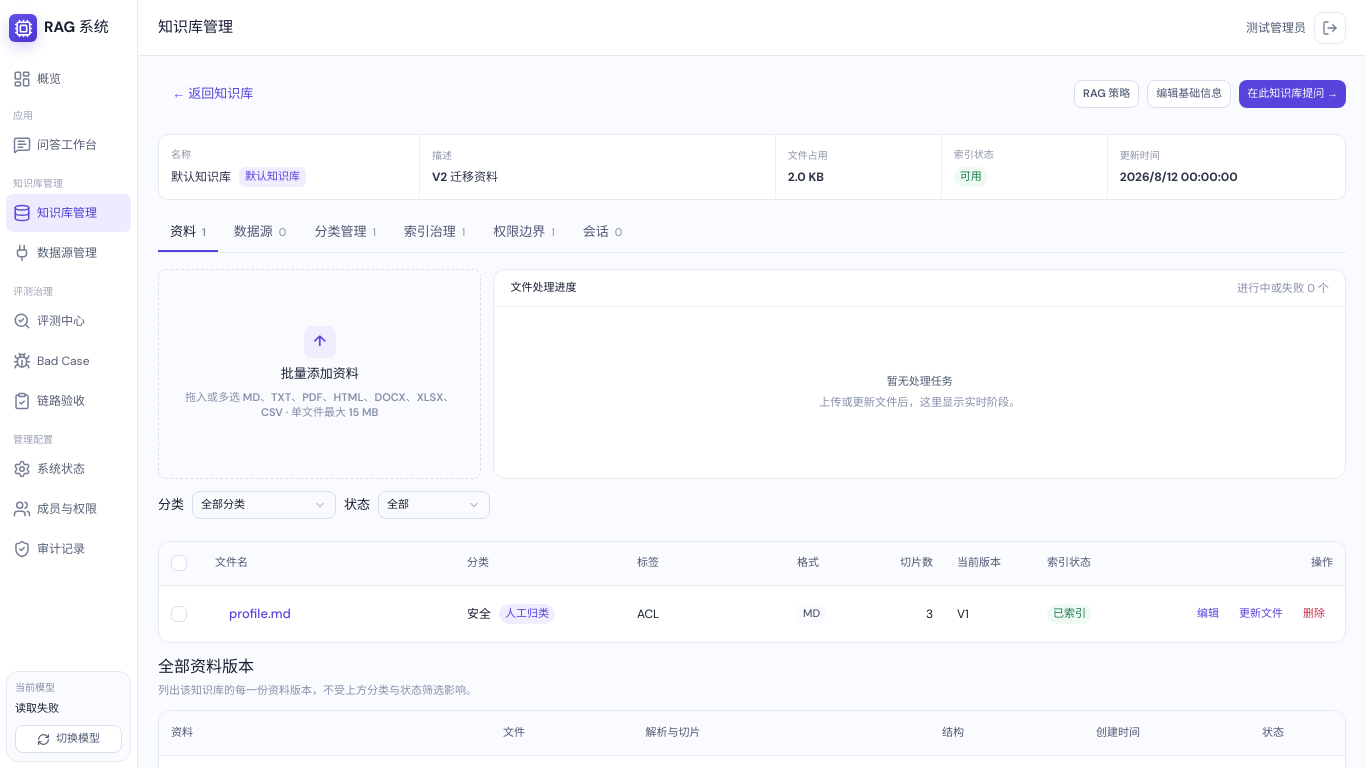
Test: 开启 Web 但域名为空时前端阻止提交并显示可见错误，保存的 PUT body 只含两个公开字段
Step 1. Click the button "RAG 策略" → coordinates (1107, 94), box [1074,80,1139,108]
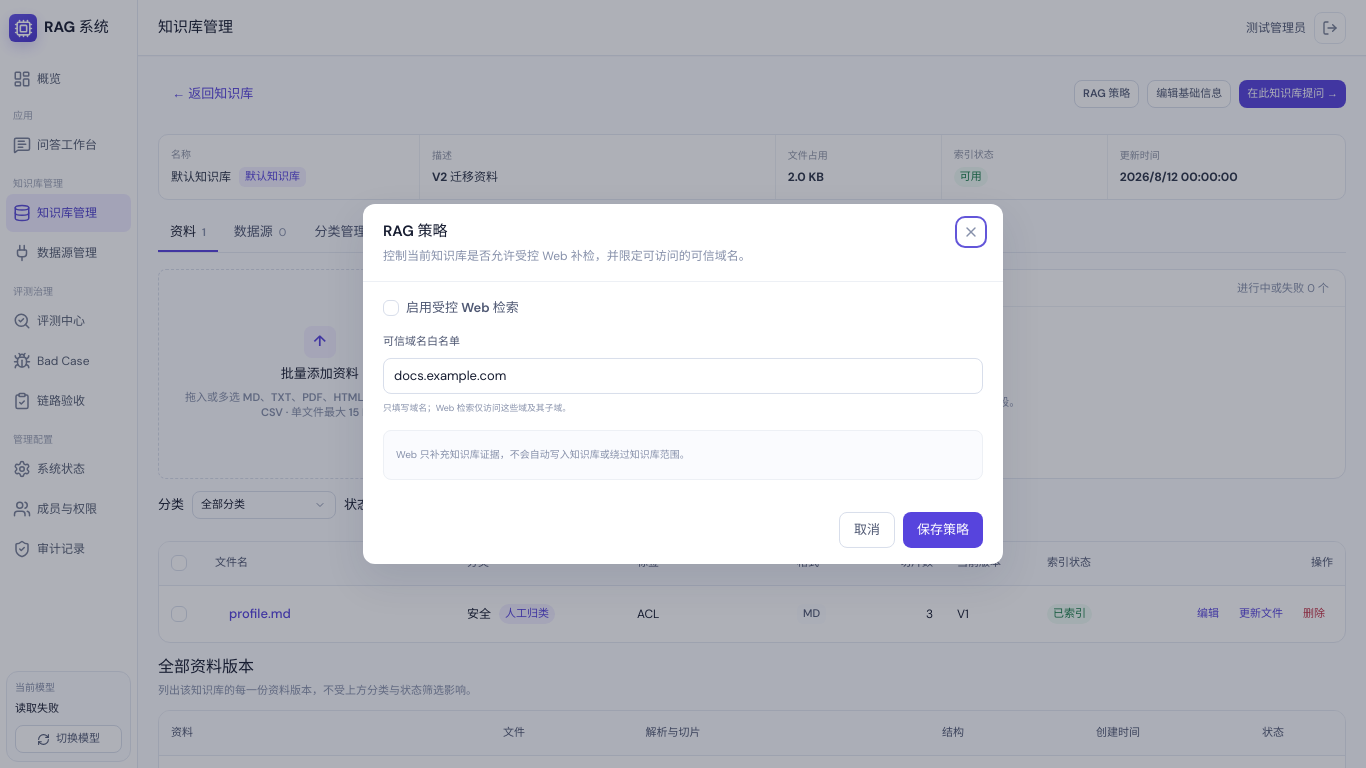
Step 2. Click the checkbox named "启用受控 Web 检索" → coordinates (391, 308), box [383,300,399,316]
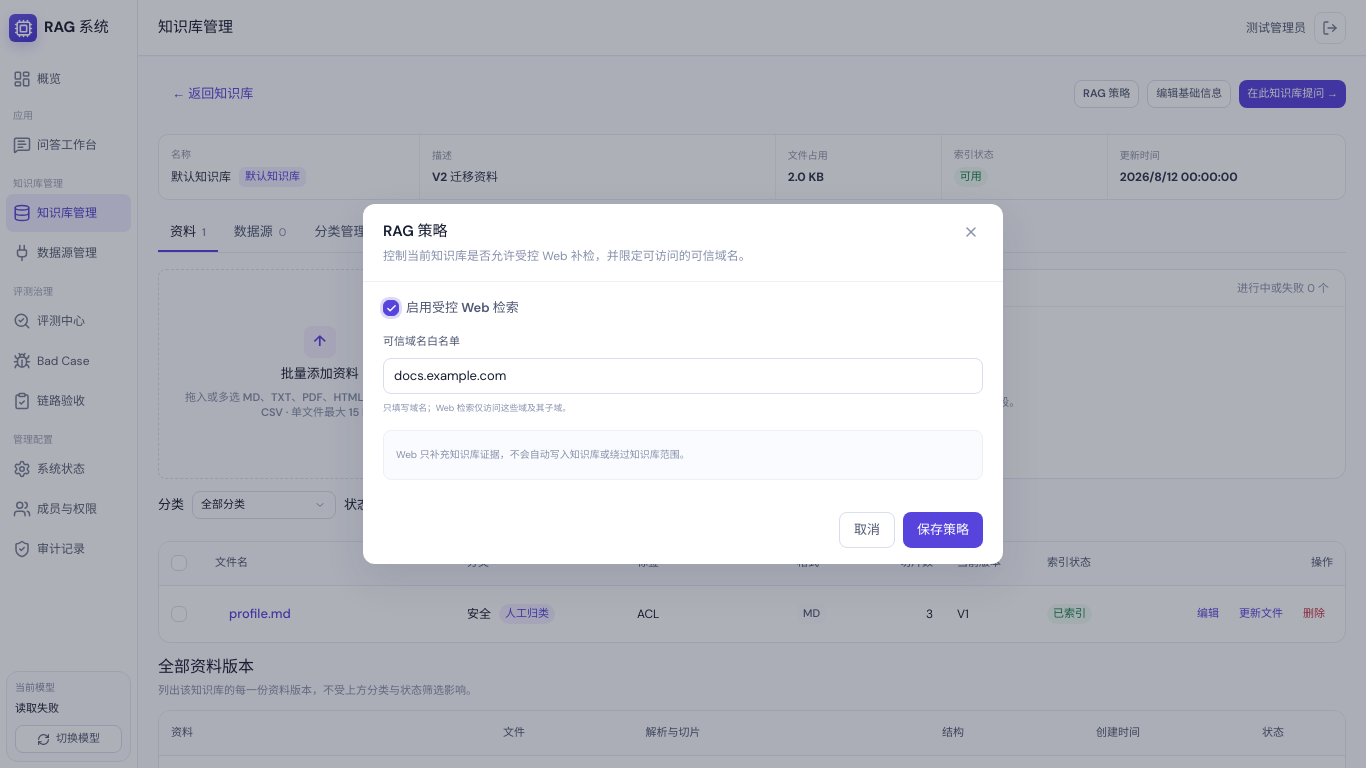
Step 3. Clear the field labelled "可信域名白名单 只填写域名；Web 检索仅访问这些域及其子域。" → coordinates (683, 376), box [383,358,983,394]
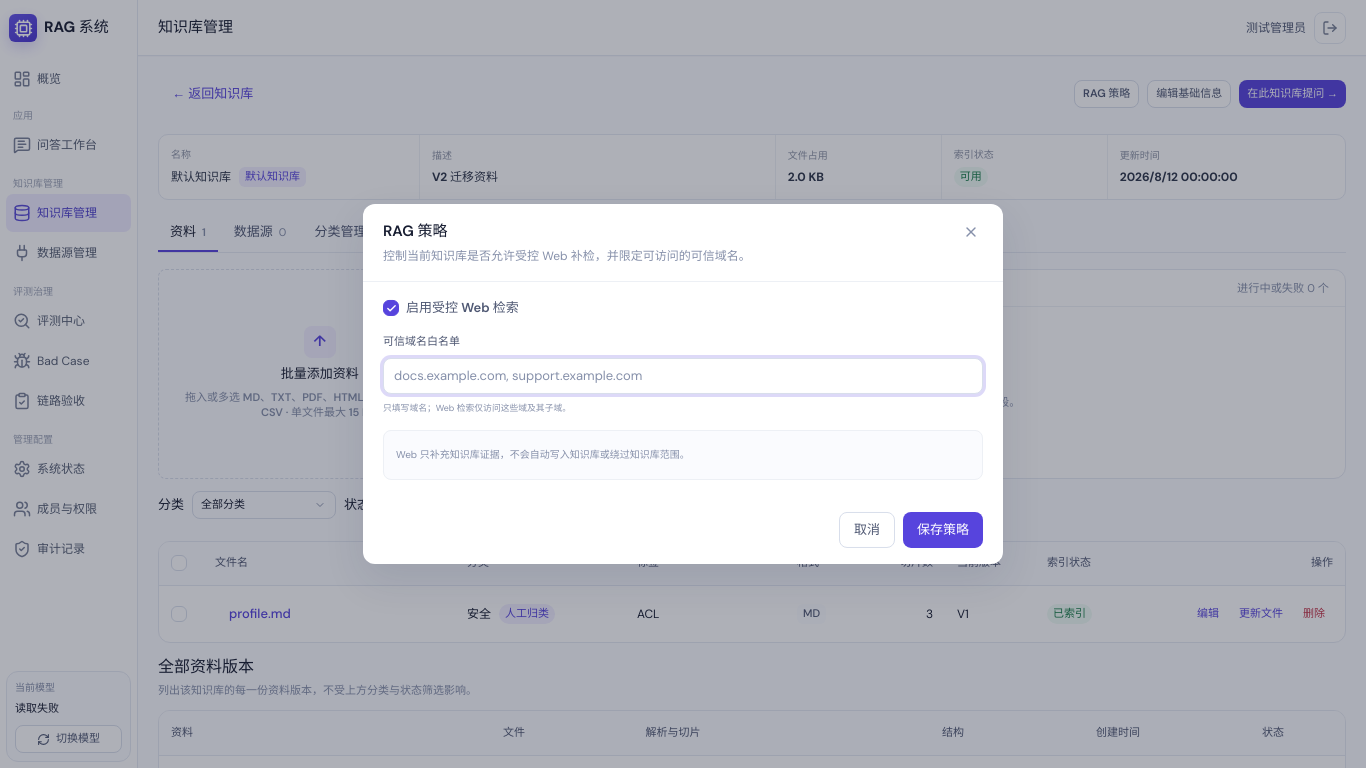
Expected: the button "保存策略" is enabled
Step 4. Click the button "保存策略" → coordinates (943, 530), box [903,512,983,548]
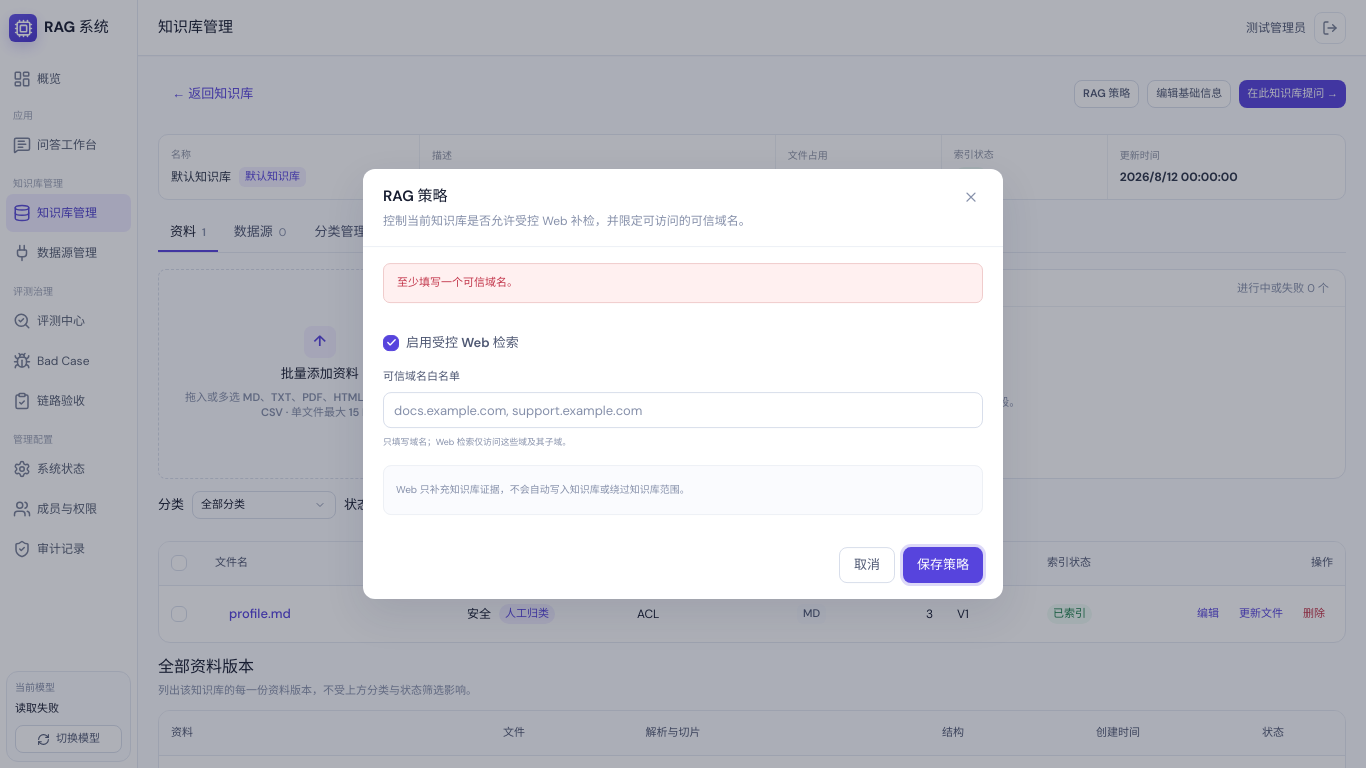
Expected: the message reads "至少填写一个可信域名。", [397,275,518,289]
Step 5. Type "new.example.com" into the field labelled "可信域名白名单 只填写域名；Web 检索仅访问这些域及其子域。" → coordinates (683, 410), box [383,392,983,428]
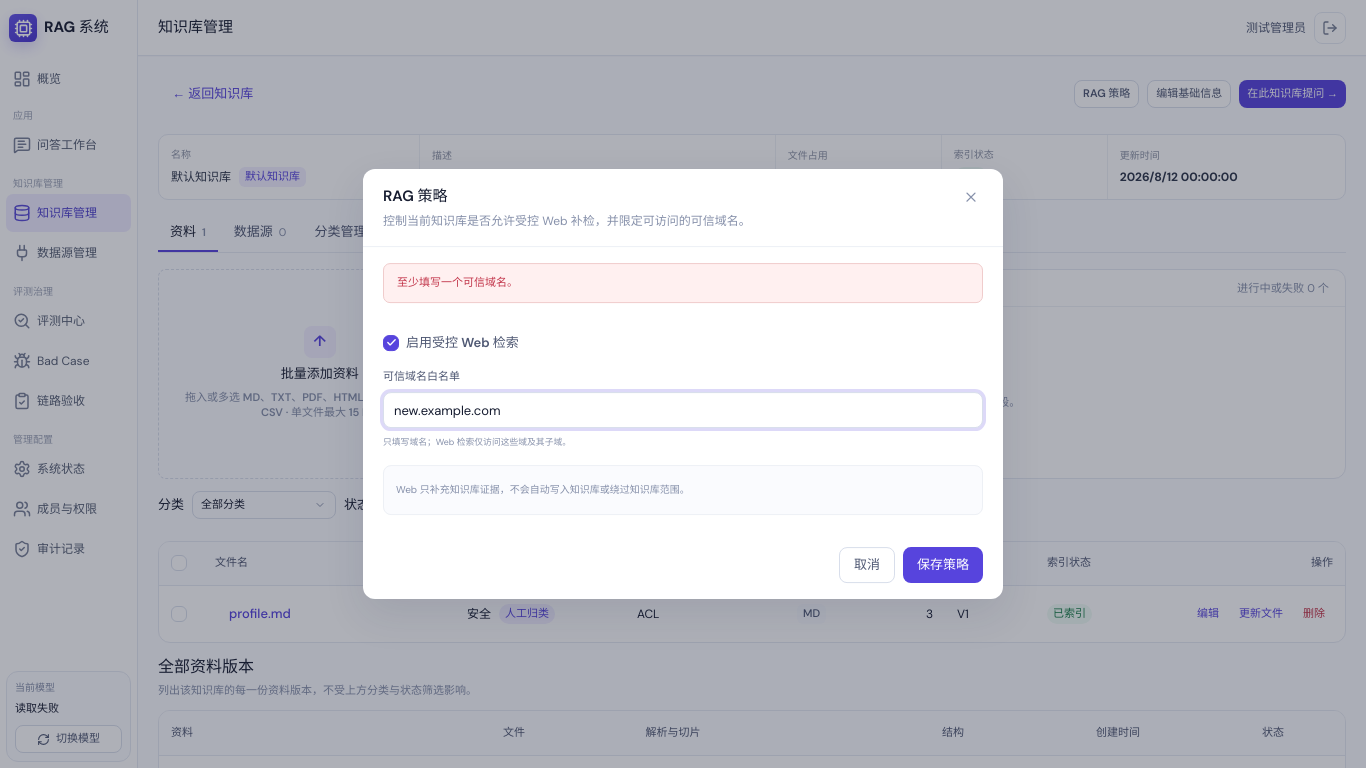
Step 6. Click the button "保存策略" → coordinates (943, 565), box [903,547,983,583]
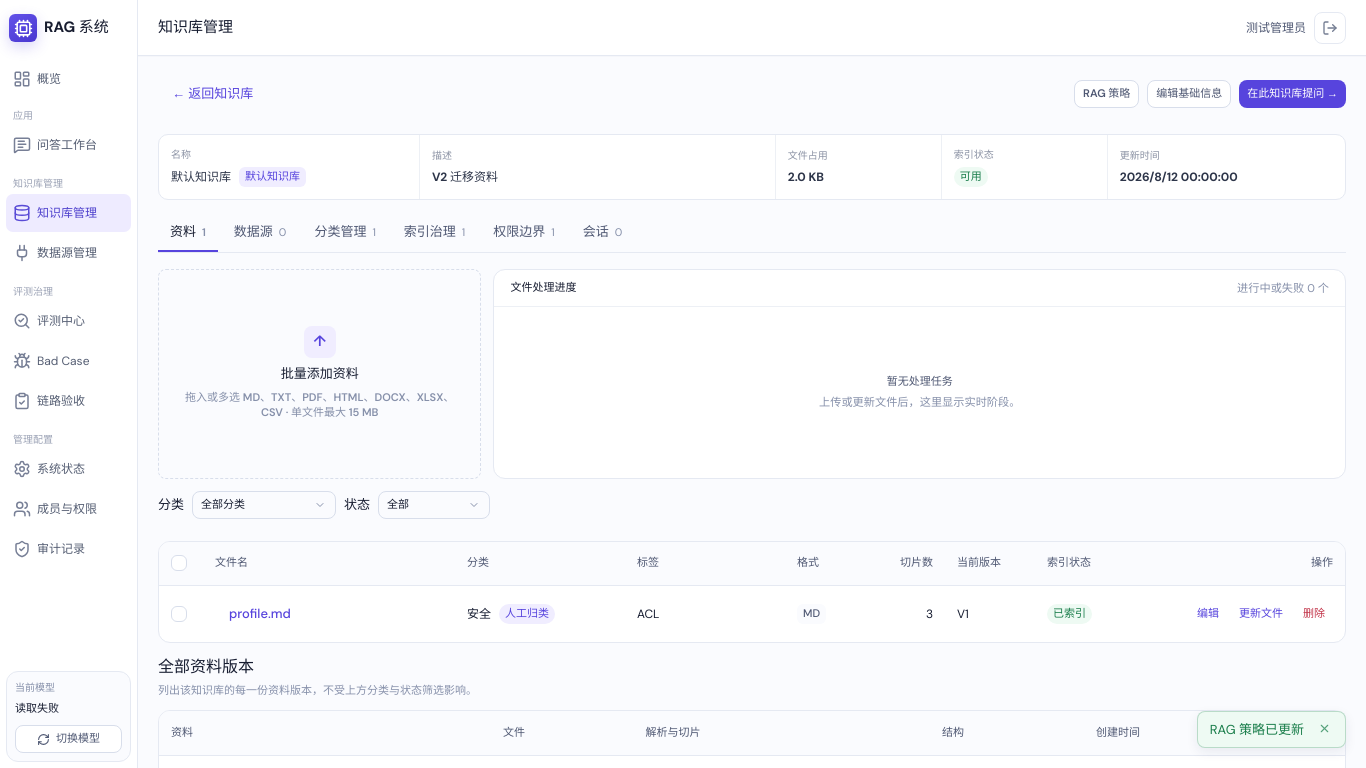
Expected: the text "RAG 策略已更新" is shown, [1210,720,1304,739]
